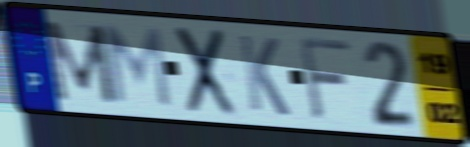2: (360, 38, 418, 130)
F: (296, 34, 354, 124)
K: (236, 31, 293, 120)
M: (39, 17, 120, 107), (101, 23, 175, 111)
X: (173, 24, 238, 119)
